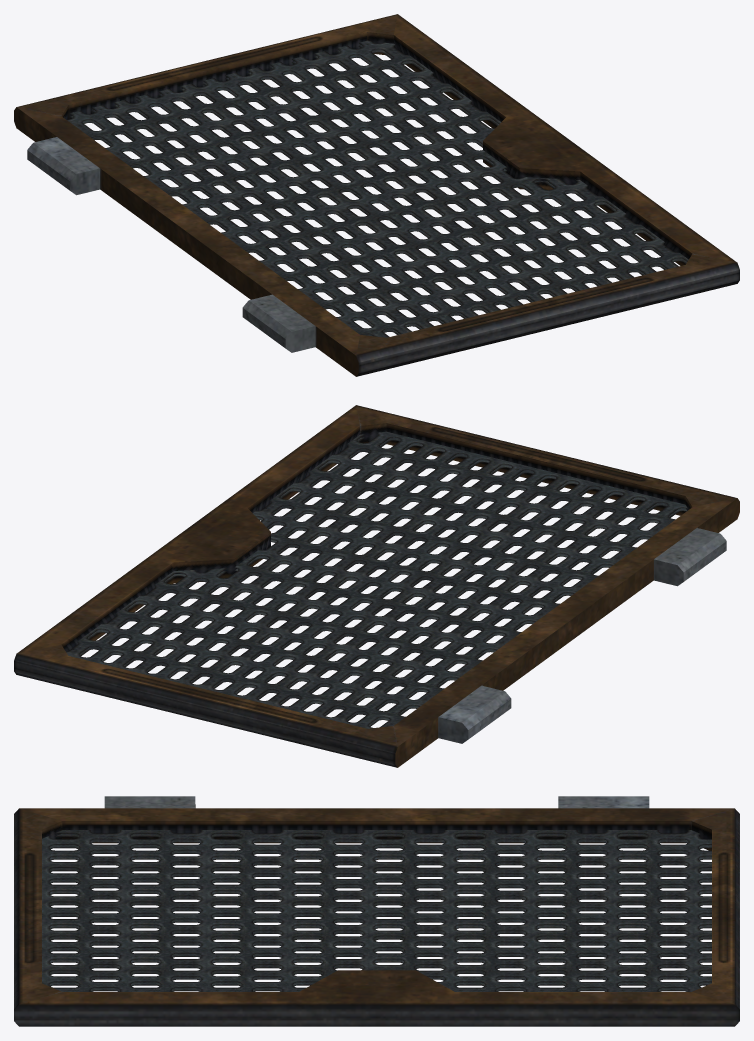
The model's file is hatch_floor_tunnel.dae.
3 renders of one model, top to bottom at view 1: azimuth 30°, elevation 25°; view 2: azimuth 150°, elevation 25°; view 3: azimuth 270°, elevation 25°, orthographic. The views are drawn at different scales.
Parts seen in each view (by area): view 1: pPlane7, pCube1, pPlane16; view 2: pPlane7, pCube1, pPlane16; view 3: pPlane7, pCube1, pPlane16.
Part boxes in pixels (box(x1,y1,x2,y2)): pPlane7: box(66, 40, 688, 337); pCube1: box(14, 14, 739, 376); pPlane16: box(69, 45, 686, 336); pPlane7: box(66, 431, 687, 728); pCube1: box(14, 405, 739, 767); pPlane16: box(79, 437, 687, 726); pPlane7: box(42, 830, 711, 991); pCube1: box(14, 796, 739, 1026); pPlane16: box(49, 833, 711, 991).
Size of the model in its own units: 1.38 by 0.0676 by 2.
